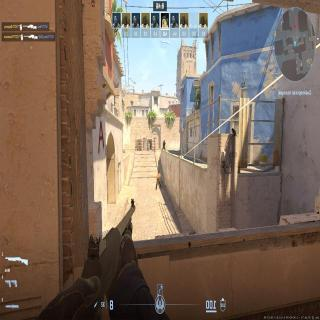CT-Body: (161, 140, 167, 152)
CT-Head: (163, 140, 165, 142)
T-Body: (155, 172, 161, 188)
T-Head: (157, 172, 159, 176)
